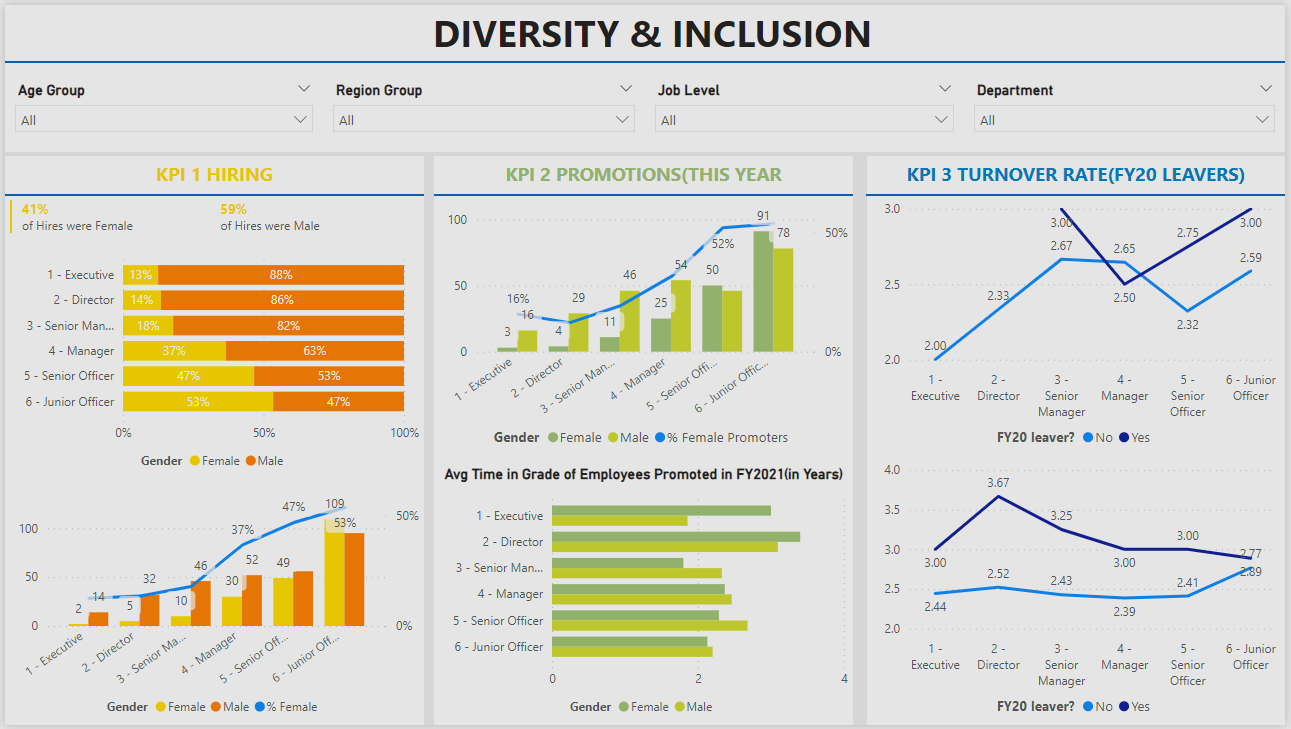

This screenshot's page, from the dashboard's own definition file:
{"tool":"powerbi","page":{"name":"Dashboard 1","canvas":[1280,720],"ordinal":0},"visuals":[{"type":"textbox","box":[0,0,1280,57],"z":0},{"type":"slicer","fields":{"Values":["Pharma.Last Department in FY20"]},"box":[959,57,321,90],"z":1000},{"type":"slicer","fields":{"Values":["Pharma.Job Level after FY20 promotions"]},"box":[640,57,319,90],"z":2000},{"type":"slicer","fields":{"Values":["Pharma.Age group"]},"box":[0,57,318,90],"z":3000},{"type":"slicer","fields":{"Values":["Pharma.Broad region group: nationality 1"]},"box":[318,57,322,90],"z":4000},{"type":"hundredPercentStackedBarChart","fields":{"Category":["Pharma.Job Level after FY20 promotions"],"Y":["CountNonNull(Pharma.Employee ID)"],"Series":["Pharma.Gender"]},"box":[0,237,419,237],"z":5000},{"type":"multiRowCard","fields":{"Values":["Pharma.% Female","Pharma.% Male"]},"box":[0,190,419,47],"z":6000},{"type":"lineClusteredColumnComboChart","fields":{"Category":["Pharma.Job Level after FY20 promotions"],"Y":["CountNonNull(Pharma.Employee ID)"],"Y2":["Pharma.% Female"],"Series":["Pharma.Gender"]},"box":[0,474,419,246],"z":7000},{"type":"lineClusteredColumnComboChart","fields":{"Y":["CountNonNull(Pharma.Employee ID)"],"Y2":["Pharma.% Female"],"Series":["Pharma.Gender"],"Category":["Pharma.Job Level after FY21 promotions"]},"box":[429,190,419,261],"z":8000},{"type":"clusteredBarChart","title":"Avg Time in Grade of  Employees Promoted in FY2021(in Years)","fields":{"Category":["Pharma.Job Level after FY20 promotions"],"Series":["Pharma.Gender"],"Y":["Avg(Pharma.Time in Job Level @01.07.2020)"]},"box":[429,451,419,269],"z":9000},{"type":"lineChart","fields":{"Category":["Pharma.Job Level after FY20 promotions"],"Series":["Pharma.FY20 leaver?"],"Y":["Avg(Pharma.FY19 Performance Rating)"]},"box":[862,190,418,261],"z":10000},{"type":"lineChart","fields":{"Category":["Pharma.Job Level after FY20 promotions"],"Series":["Pharma.FY20 leaver?"],"Y":["Avg(Pharma.FY19 Performance Rating)"]},"box":[862,451,418,269],"z":11000},{"type":"textbox","box":[0,151,419,39],"z":12000},{"type":"textbox","box":[429,151,419,39],"z":13000},{"type":"textbox","box":[862,151,418,39],"z":14000},{"type":"shape","box":[0,178,419,24],"z":15000},{"type":"shape","box":[429,178,419,24],"z":16000},{"type":"shape","box":[0,45,1280,24],"z":17000},{"type":"shape","box":[861,178,419,24],"z":18000}]}

Visuals, with their boxes in screenshot pixels (x1, y1, x2, y2), scaled from the page's 1280x720 canvas onto the 1291x729 screenshot:
textbox: left=0, top=0, right=1290, bottom=58
slicer - Pharma.Last Department in FY20: left=967, top=58, right=1290, bottom=149
slicer - Pharma.Job Level after FY20 promotions: left=646, top=58, right=967, bottom=149
slicer - Pharma.Age group: left=0, top=58, right=321, bottom=149
slicer - Pharma.Broad region group: nationality 1: left=321, top=58, right=646, bottom=149
hundredPercentStackedBarChart - Pharma.Job Level after FY20 promotions x CountNonNull(Pharma.Employee ID): left=0, top=240, right=423, bottom=480
multiRowCard - Pharma.% Female x Pharma.% Male: left=0, top=192, right=423, bottom=240
lineClusteredColumnComboChart - Pharma.Job Level after FY20 promotions x CountNonNull(Pharma.Employee ID): left=0, top=480, right=423, bottom=728
lineClusteredColumnComboChart - CountNonNull(Pharma.Employee ID) x Pharma.% Female: left=433, top=192, right=855, bottom=457
"Avg Time in Grade of  Employees Promoted in FY2021(in Years)" clusteredBarChart: left=433, top=457, right=855, bottom=728
lineChart - Pharma.Job Level after FY20 promotions x Pharma.FY20 leaver?: left=869, top=192, right=1290, bottom=457
lineChart - Pharma.Job Level after FY20 promotions x Pharma.FY20 leaver?: left=869, top=457, right=1290, bottom=728
textbox: left=0, top=153, right=423, bottom=192
textbox: left=433, top=153, right=855, bottom=192
textbox: left=869, top=153, right=1290, bottom=192
shape: left=0, top=180, right=423, bottom=205
shape: left=433, top=180, right=855, bottom=205
shape: left=0, top=46, right=1290, bottom=70
shape: left=868, top=180, right=1290, bottom=205
